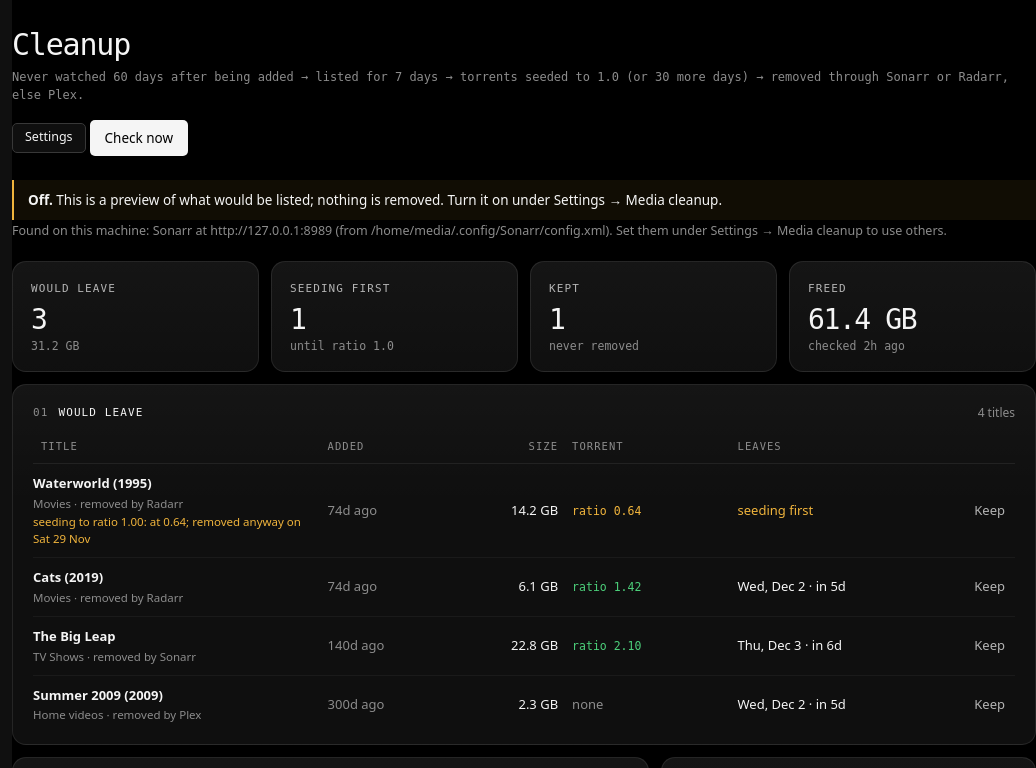
Test: cleanup › shows newer news from the server after a Check now
The image size is (1036, 768).
Expected: the text "Cats (2019)" is shown, [33,568,103,586]
Step 1. Click the button "Check now" → (139, 138), box [90,120,188,156]
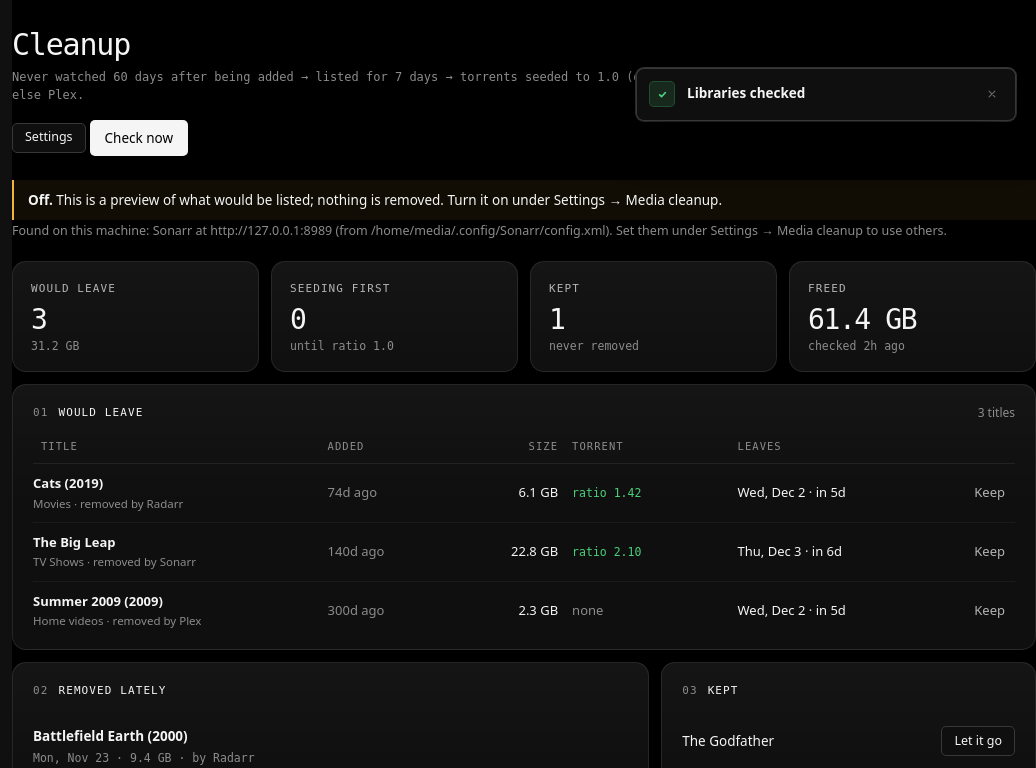
The next check fails and the page reloads: what it loads is shown, not the earlier check's reply.
Step 2. Click the button "Check now" → (139, 138), box [90,120,188,156]
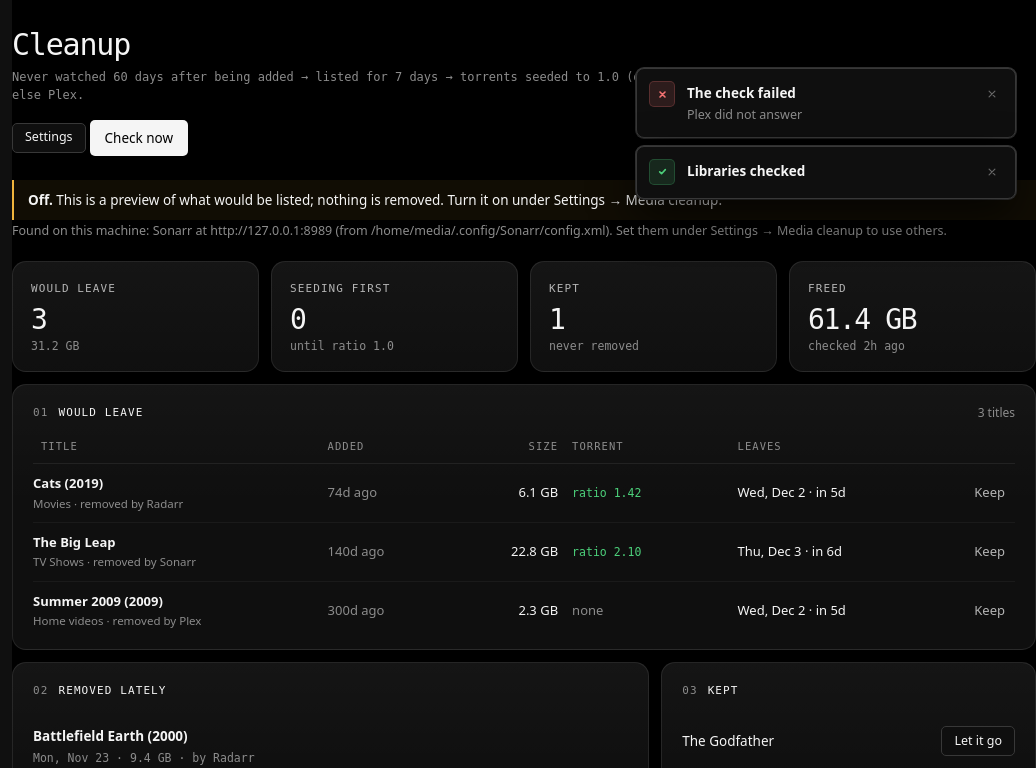
Expected: the text "Cats (2019)" is shown, [33,474,103,492]
Expected: the text "The check failed" is shown, [687,84,796,102]
